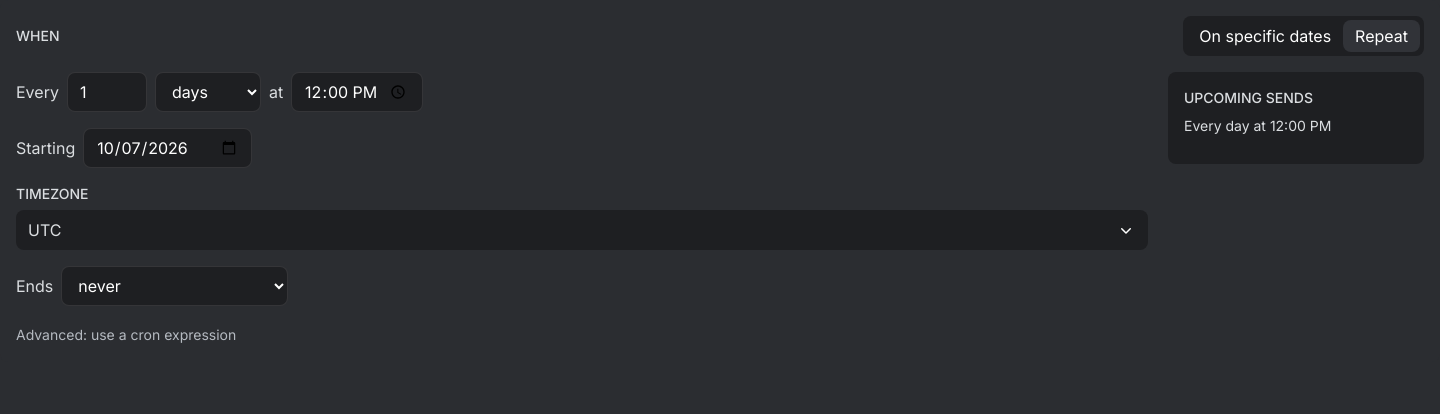
it: the advanced mode keeps the cron and interval of the sentence
Step 1. Replace the text in the number field named "Every" with "2" → (107, 92), box [67,72,147,112]
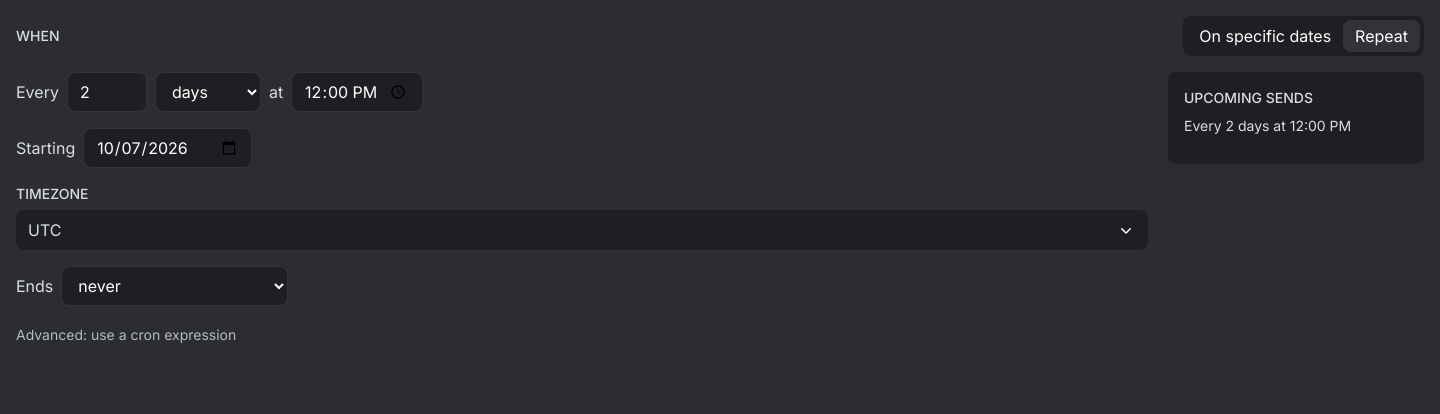
Step 2. Click the button "Advanced: use a cron expression" → (126, 335), box [16,325,236,345]
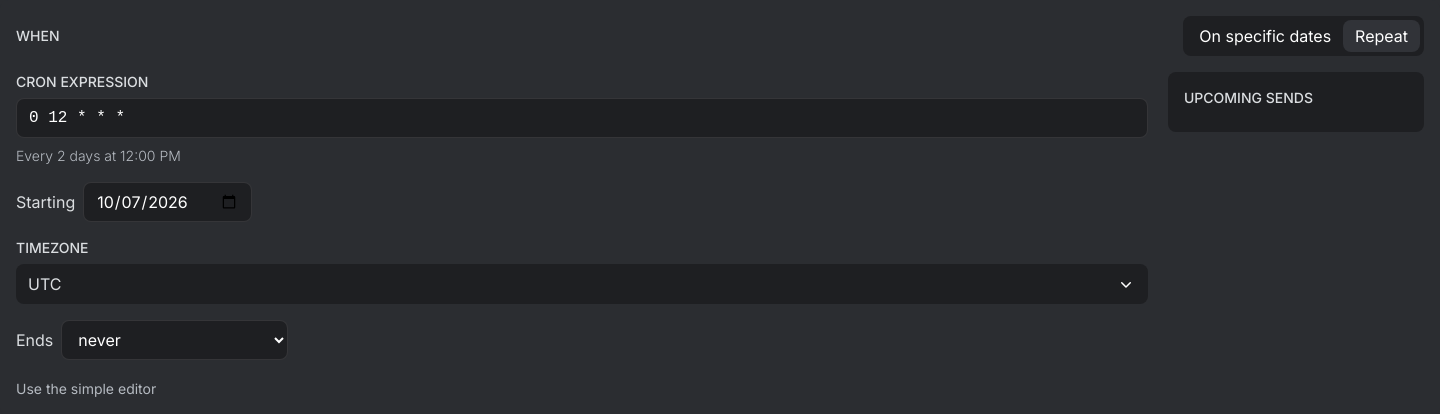
Result: the field named "Cron expression" holds "0 12 * * *" at [16,98,1148,138]
